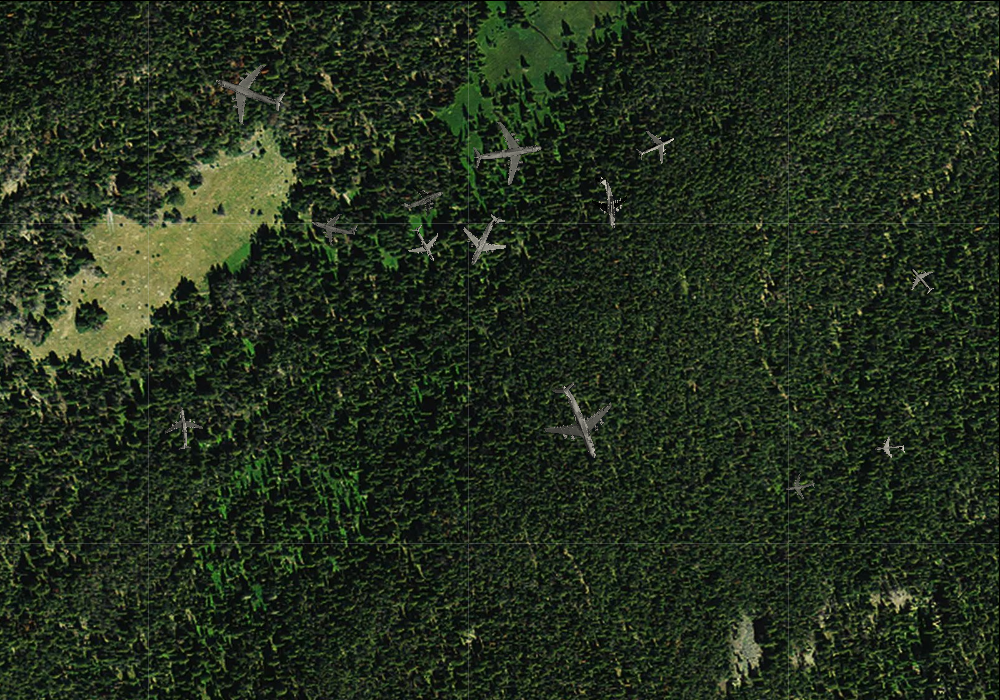plane: (528, 369, 628, 472), (204, 47, 294, 135), (468, 115, 547, 189), (449, 204, 520, 276), (392, 171, 450, 226), (582, 173, 632, 231), (306, 200, 361, 252), (399, 217, 450, 269), (630, 121, 681, 171), (159, 404, 206, 452), (900, 258, 942, 300), (784, 470, 817, 502), (872, 433, 906, 464)
